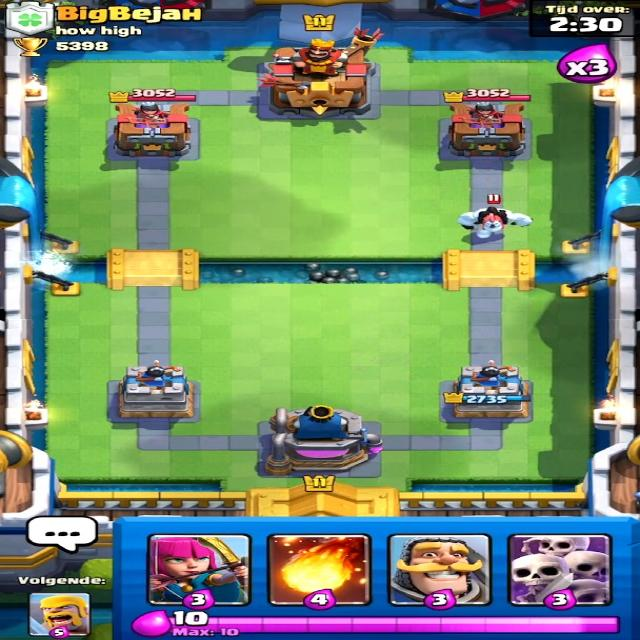Enemy_Ice_Golem_Troop: (444, 204, 540, 240)
Fireball_Card: (266, 534, 368, 607), (266, 534, 372, 604)
